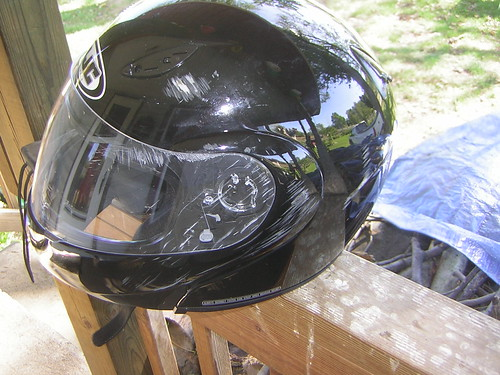helmet: (23, 3, 406, 318)
